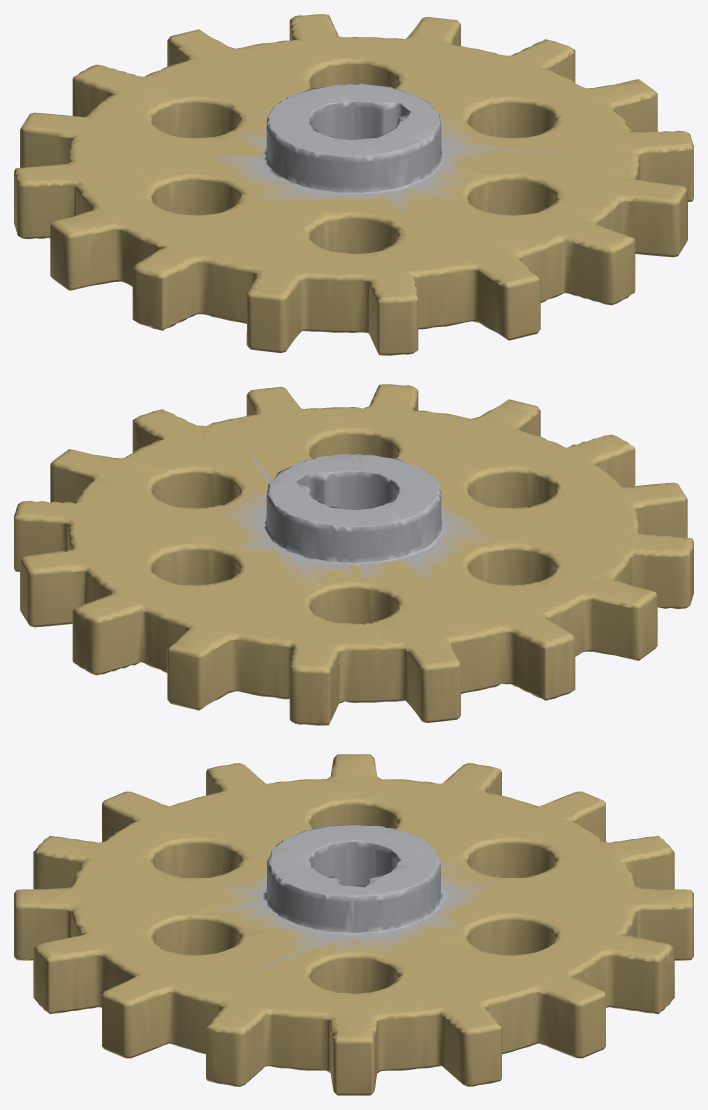
The model's file is gear.glb.
3 views of the same model, one above another, from view 1: azimuth 30°, elevation 25°; view 2: azimuth 150°, elevation 25°; view 3: azimuth 270°, elevation 25° (orthographic).
Parts seen in each view (by area): view 1: gear; view 2: gear; view 3: gear.
Part boxes in pixels (<box>): gear: <box>14,14,693,355</box>; gear: <box>14,384,693,725</box>; gear: <box>14,754,693,1095</box>.
Size of the model in its own units: 0.086 by 0.013 by 0.086.
